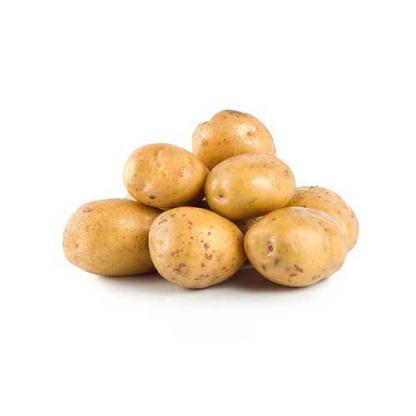potato: (51, 182, 204, 280), (242, 207, 374, 286), (148, 204, 266, 292), (186, 97, 293, 174), (113, 132, 208, 217), (209, 146, 294, 219)
